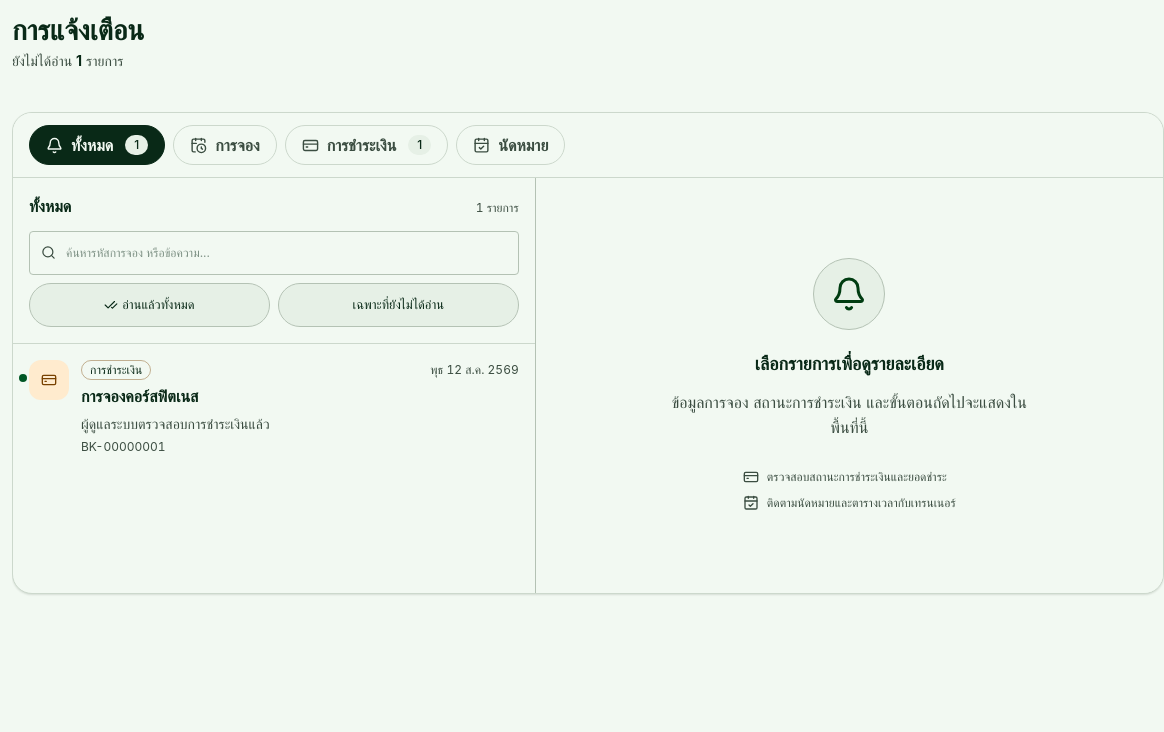
NotificationCenter › searches on the server so every page is covered, not only the rows on screen
Expected: the text "การจองคอร์สฟิตเนส" is shown, x1=81 y1=386 x2=198 y2=406
Type "BK-00000002" into the search field named "ค้นหาการแจ้งเตือน" at (274, 253), box x1=29 y1=231 x2=519 y2=275
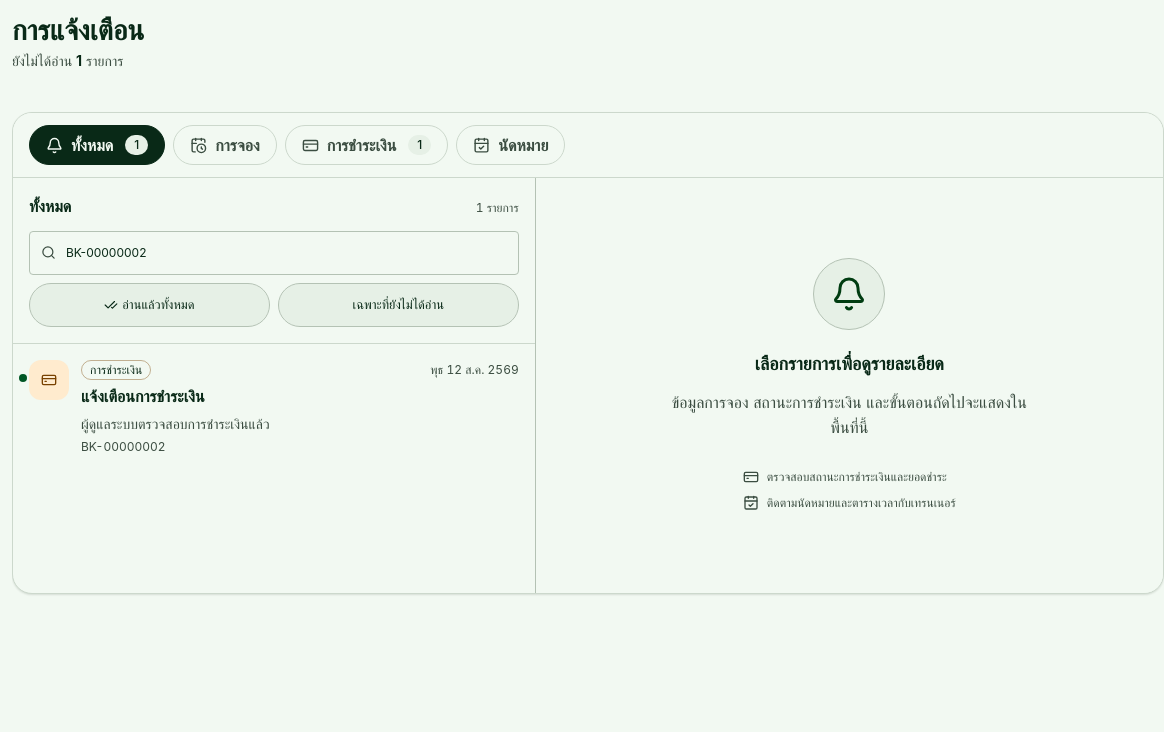
Expected: the text "แจ้งเตือนการชำระเงิน" is shown, x1=81 y1=386 x2=205 y2=406
Expected: the button "การจองคอร์สฟิตเนส" is gone
